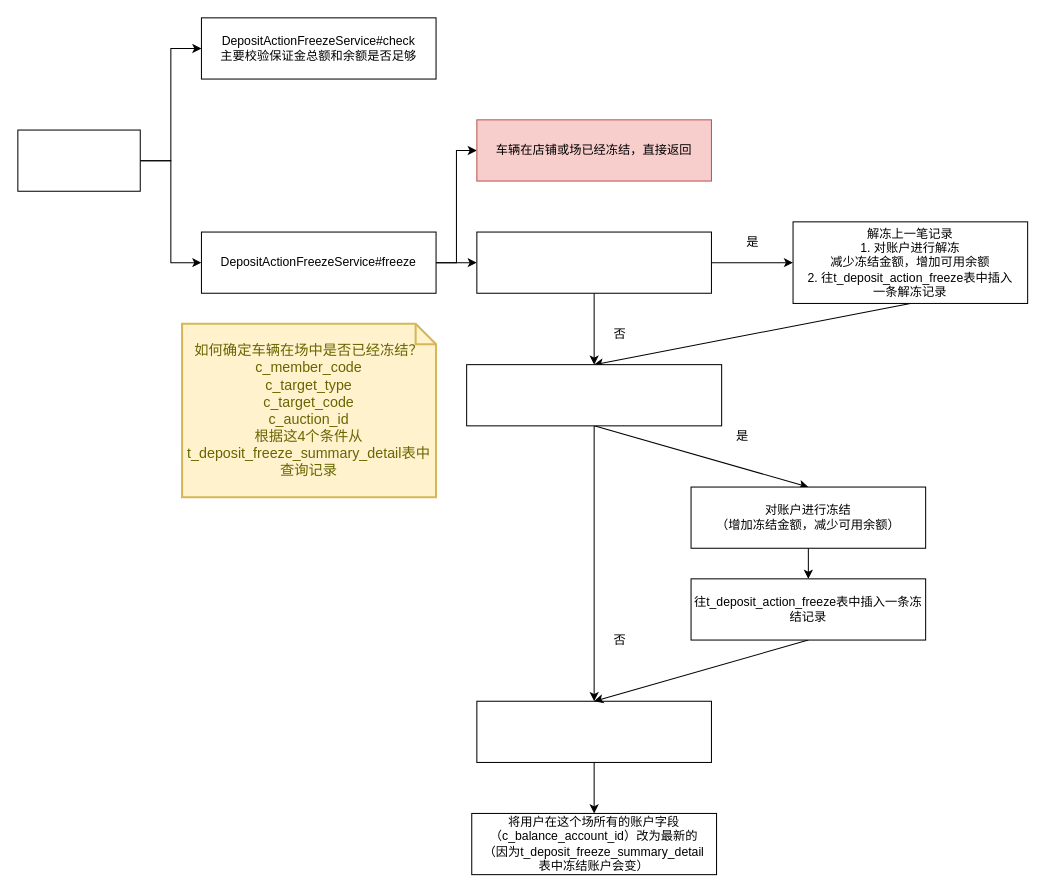
This 1046x893 diagram has some shape labels left out. Each missing label, with the centre of its shape:
冻结金额发生变化或者在这个场中没有冻结过: [594,395]
场次冻结: [78,160]
店铺冻结金额是否发生变化: [593,262]
往t_deposit_freeze_summary_detail表中插入一条冻结记录: [593,731]
